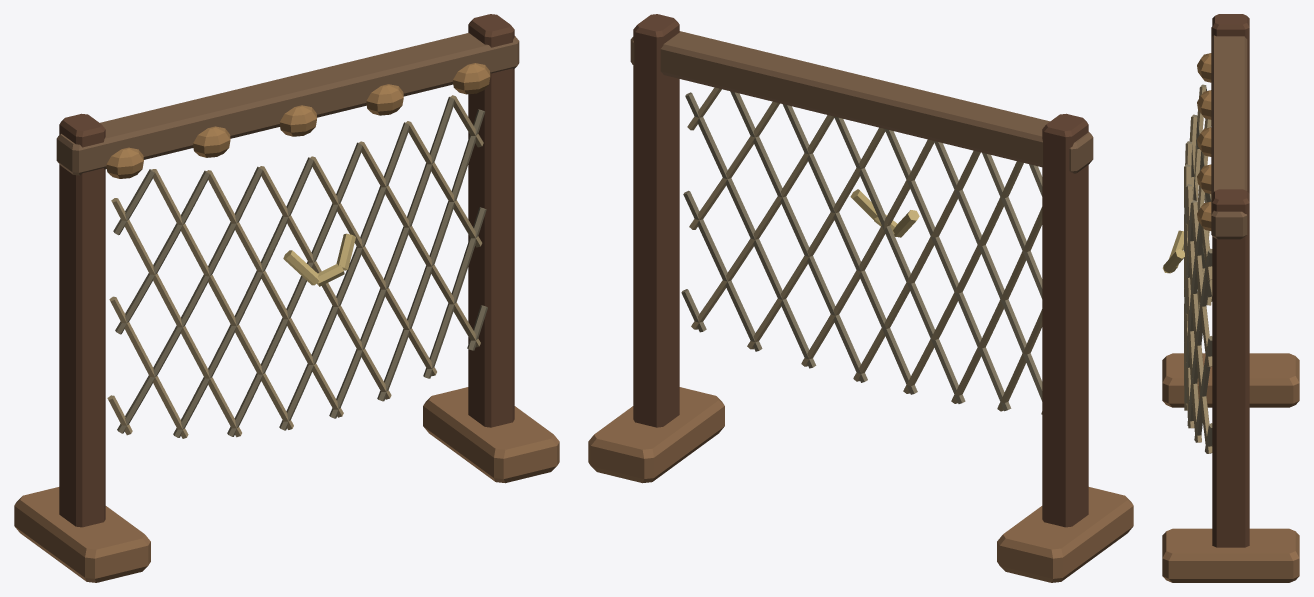
Rendered from fishing_net.glb.
The picture shows the model from 3 angles, left to right: view 1: azimuth 30°, elevation 25°; view 2: azimuth 150°, elevation 25°; view 3: azimuth 270°, elevation 25°; orthographic projection. The views are drawn at different scales.
Parts seen in each view (by area): view 1: Timber drying frame, Net mesh, Loose stitch; view 2: Timber drying frame, Net mesh, Loose stitch; view 3: Timber drying frame, Net mesh, Loose stitch.
Boxes of the visible parts, x1,y1,x2,y2 form: Timber drying frame: (14,14,559,582); Net mesh: (107,95,487,438); Loose stitch: (283,233,355,286); Timber drying frame: (588,14,1133,582); Net mesh: (681,87,1042,414); Loose stitch: (850,189,919,237); Timber drying frame: (1162,14,1299,582); Net mesh: (1184,84,1212,453); Loose stitch: (1162,230,1184,273).
Size of the model in its own units: 1.37 by 1.18 by 0.39.
